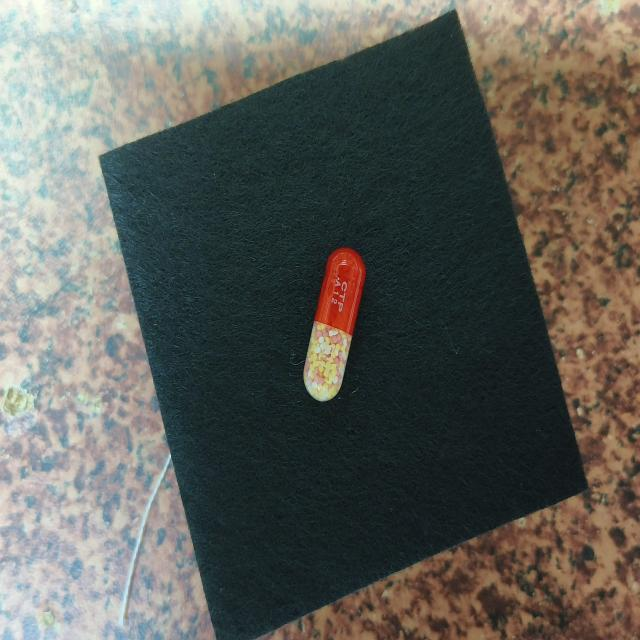Intact Capsule: (303, 247, 366, 401)
